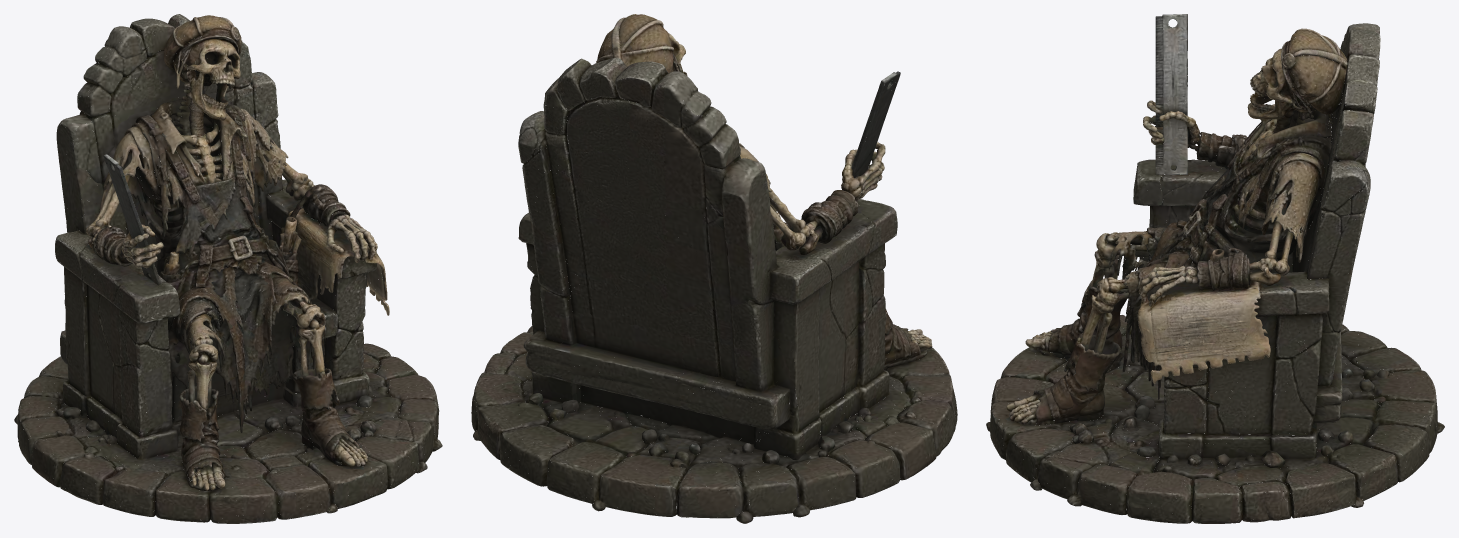
File: ded_king_skelton.glb
3 views of the same model, side by side, from view 1: azimuth 30°, elevation 25°; view 2: azimuth 150°, elevation 25°; view 3: azimuth 270°, elevation 25° (orthographic). The views are drawn at different scales.
Visible parts, largest first — view 1: tripo_node_3665f86a-1397-41dd-a99a-40bccbdb8709; view 2: tripo_node_3665f86a-1397-41dd-a99a-40bccbdb8709; view 3: tripo_node_3665f86a-1397-41dd-a99a-40bccbdb8709.
Part boxes in pixels (x1,y1,x2,y2): tripo_node_3665f86a-1397-41dd-a99a-40bccbdb8709: (14, 14, 442, 523); tripo_node_3665f86a-1397-41dd-a99a-40bccbdb8709: (471, 14, 957, 523); tripo_node_3665f86a-1397-41dd-a99a-40bccbdb8709: (986, 14, 1444, 523).
Bounding box in the file's own units: 0.9743 × 0.9685 × 0.9815.
1 material, 1 textured.
